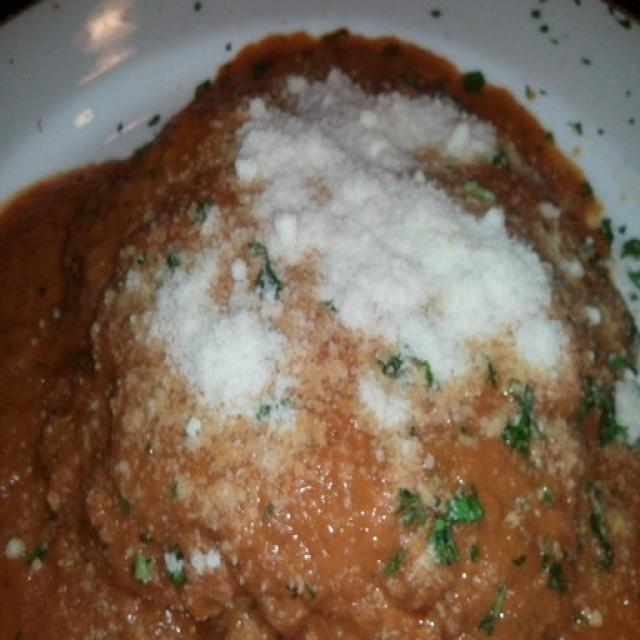Lasagna: (75, 102, 610, 614)
